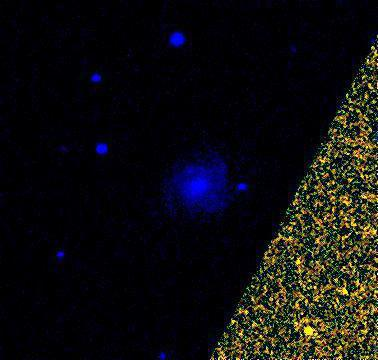star: (293, 316, 323, 346)
